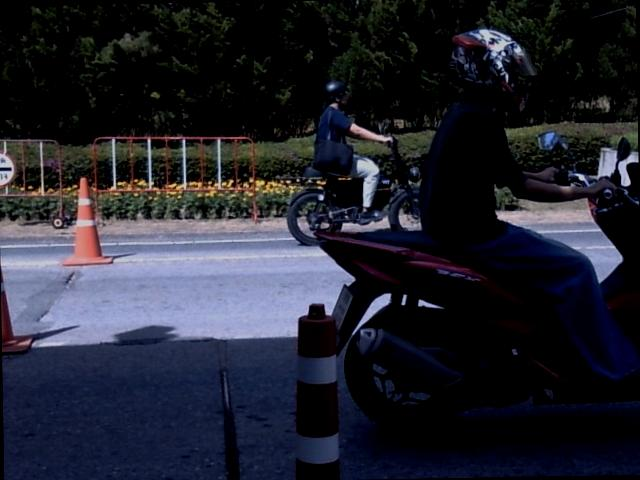helmet: (447, 22, 536, 118), (322, 78, 358, 108)
motor: (317, 229, 640, 430), (589, 162, 640, 351), (288, 165, 368, 244), (373, 144, 419, 228)
person: (419, 28, 640, 382), (314, 80, 391, 222)
